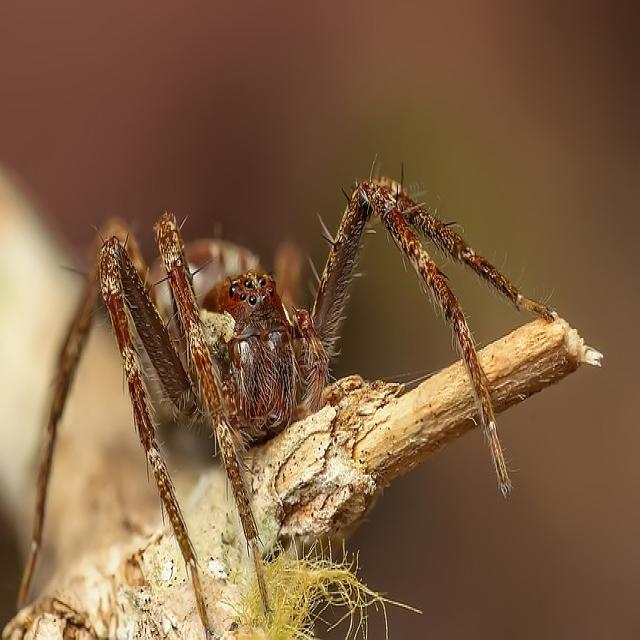spyder: (19, 178, 554, 634)
